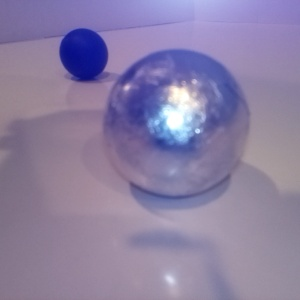alive_ball: (260, 1, 285, 24)
dead_ball: (133, 1, 159, 26)
